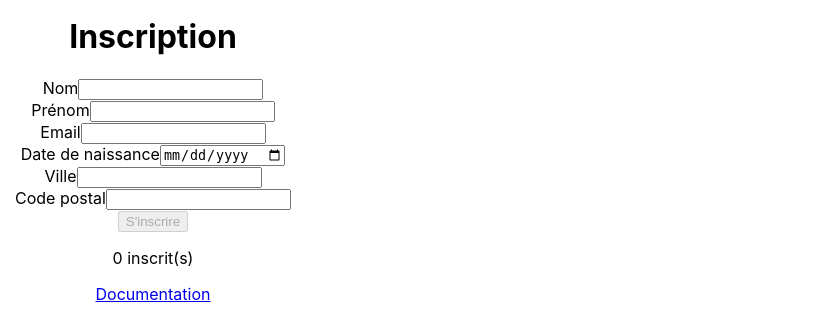
sad path › App component › shows a network error toast and keeps the count when the API rejects
Type "Bremaud" into the field labelled "Nom" at (171, 89), box 78,79 -> 263,100
Type "Benoit" into the field labelled "Prénom" at (182, 111), box 90,101 -> 275,122
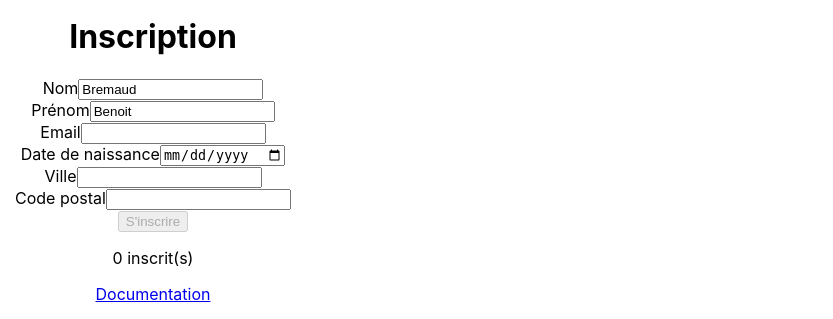
Type "benoit@example.com" into the field labelled "Email" at (173, 133), box 81,123 -> 266,144
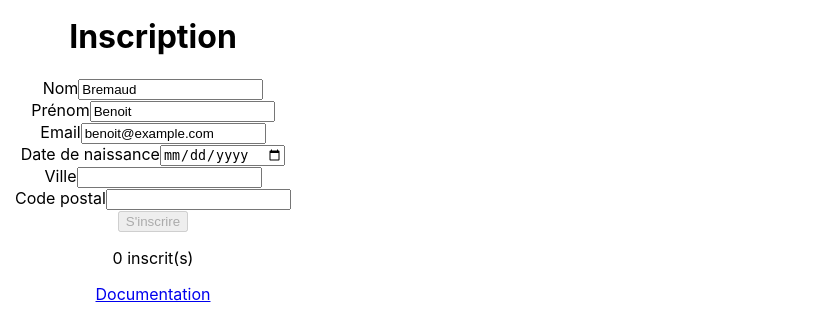
Type "1981-05-22" into the date field labelled "Date de naissance" at (223, 155), box 160,145 -> 285,166
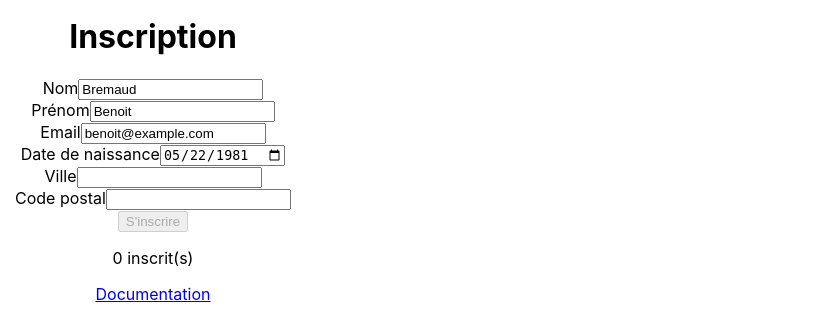
Type "Grasse" into the field labelled "Ville" at (169, 178), box 76,167 -> 262,188
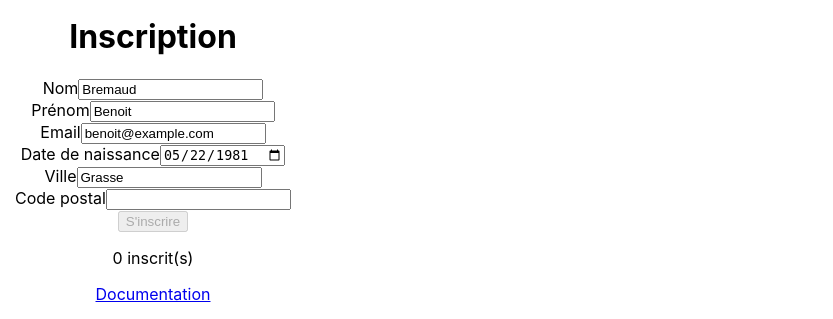
Type "06130" into the field labelled "Code postal" at (198, 200), box 106,189 -> 291,210
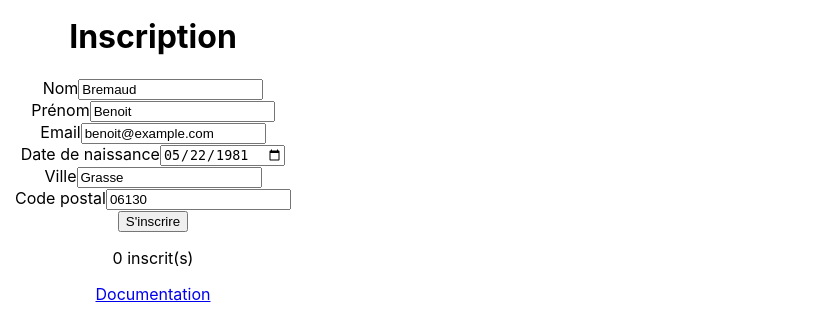
Click the button "S'inscrire" at (153, 222), box 118,211 -> 188,232
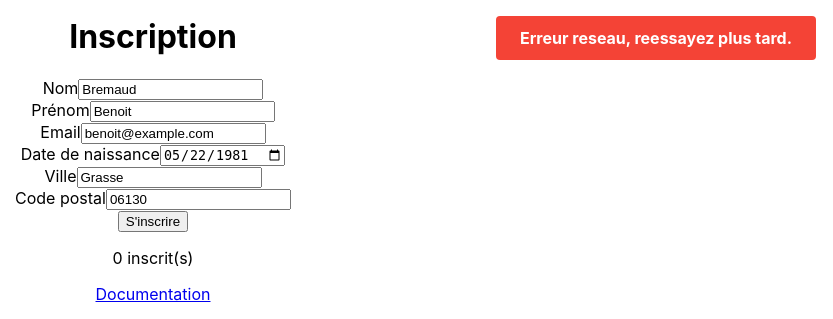
Expected: the text "0 inscrit(s)" is shown, 112,248 -> 193,268
Expected: the message shows "Erreur reseau", 520,28 -> 792,48
